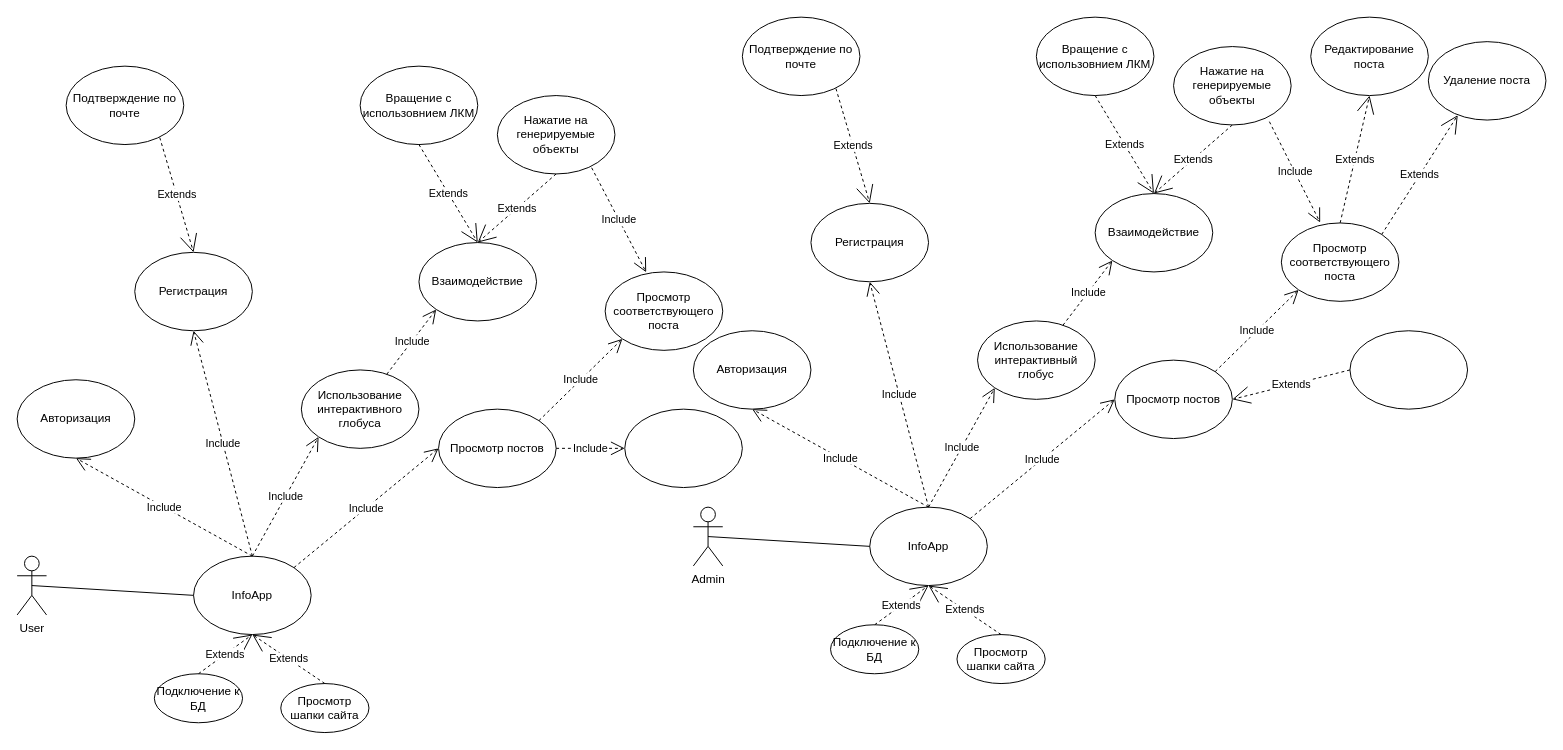
This 1563x750 diagram has some shape labels left out. The shapes that lost their labels are listed below. From the top down, each one's centre as x and y in pixels, then its label:
At point 1408,369: "Добавление поста".
At point 683,448: "Добавление комментариев".
